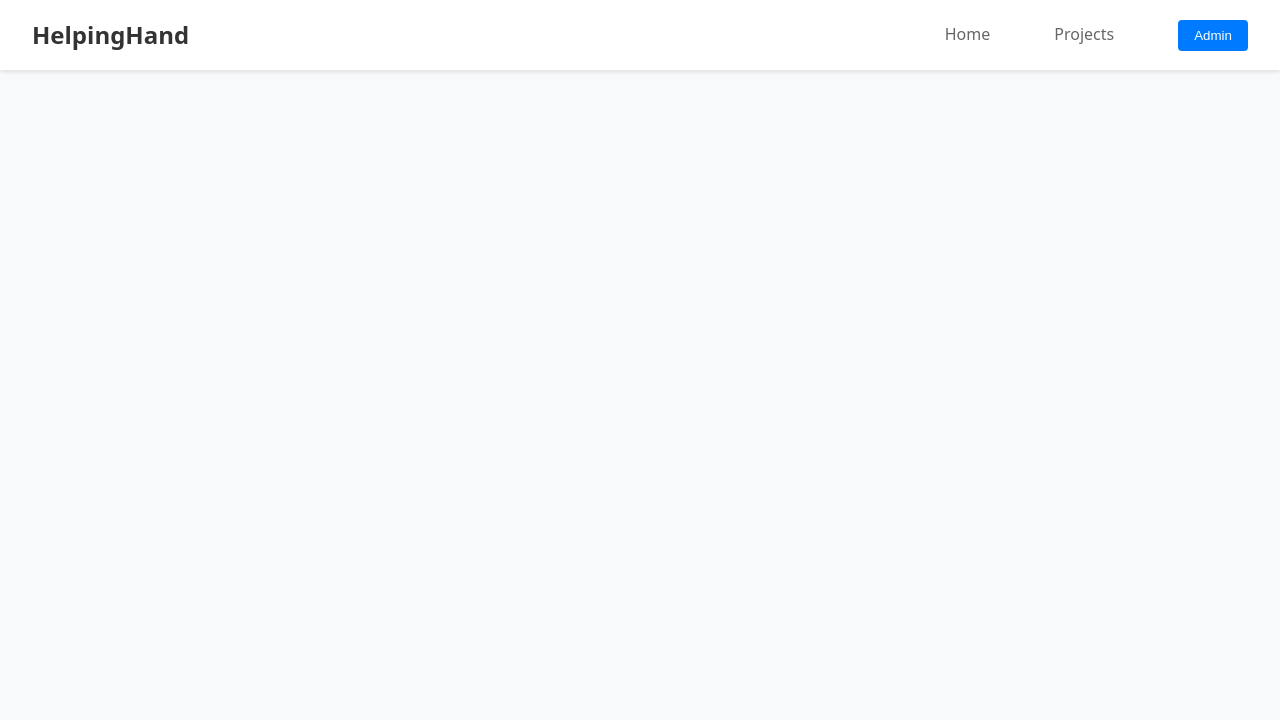
Navbar Component › Admin Login › should show error when password is empty
// Open popup
Click the button "Admin": (1213, 35) [1178,20,1248,51]
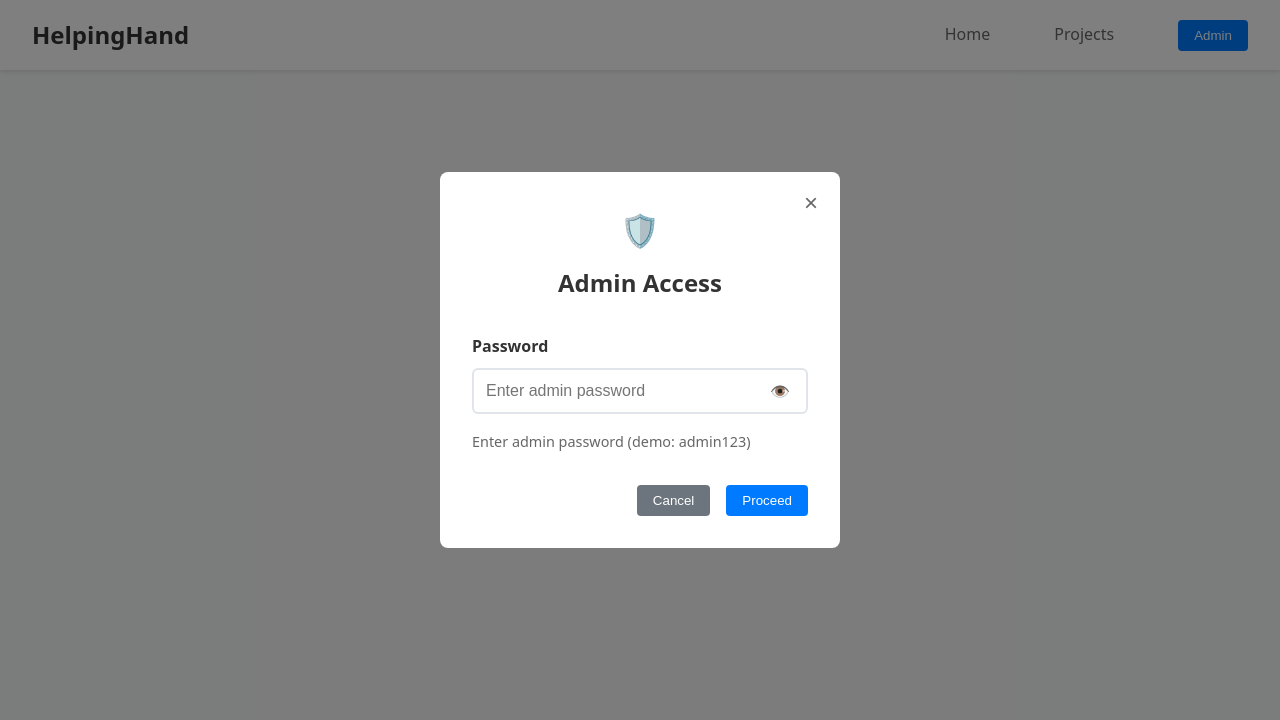
Click the button "Proceed": (767, 500) [726,485,808,516]
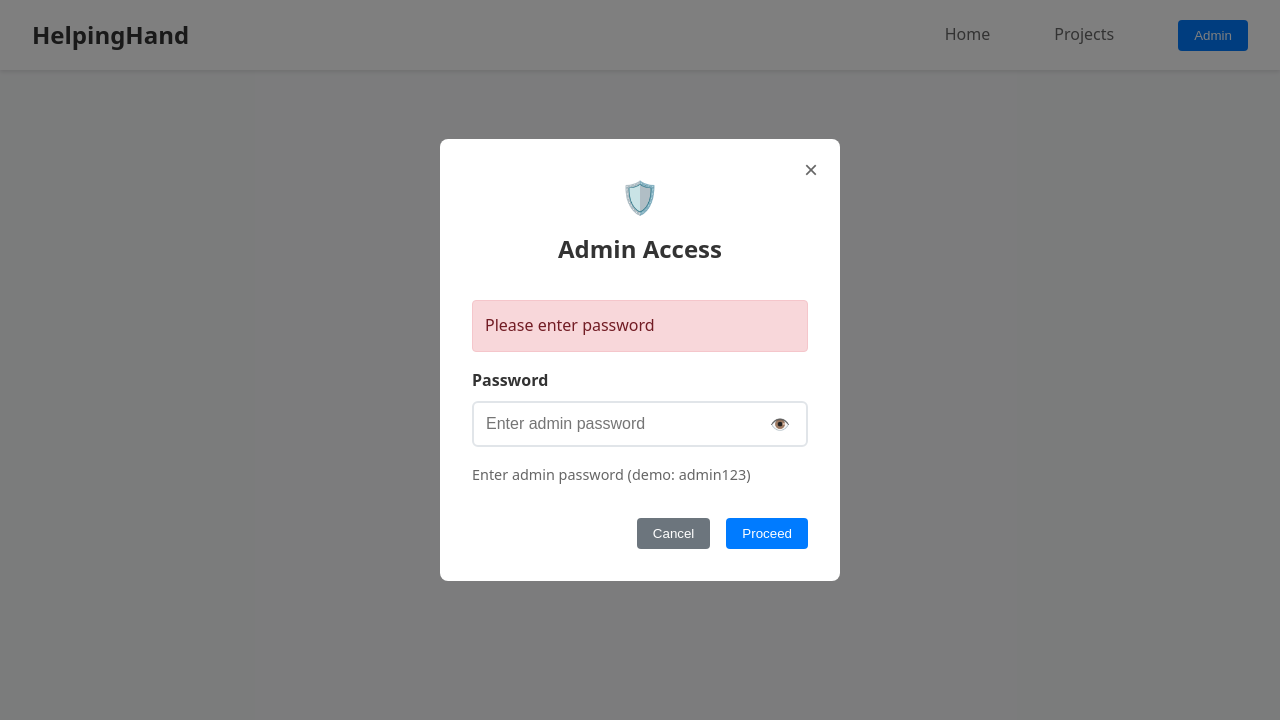
Now the text "Please enter password" is shown, box [472,300,808,352]
